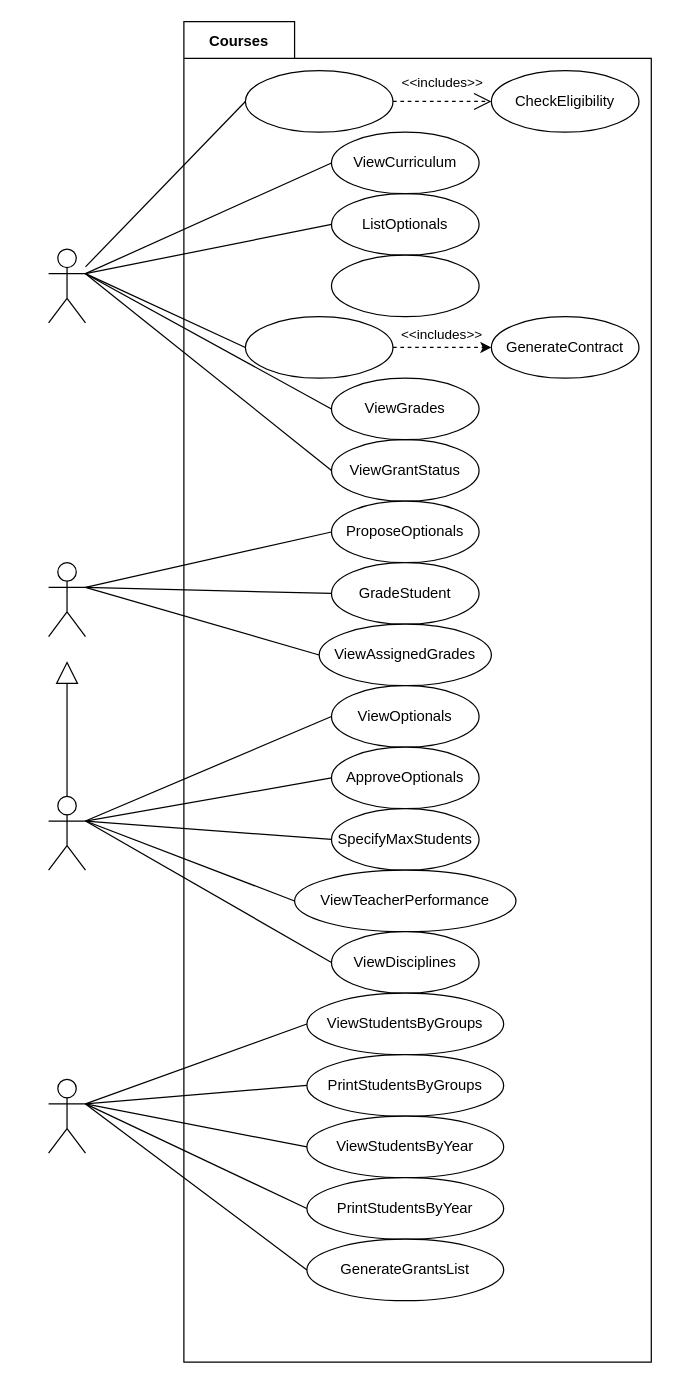
The diagram is 673 pixels wide and 1384 high, and some of its shapes have lost their labels. Here are the shapes that lost their labels. From the top down, the box of each, then its label:
(244, 69, 393, 132): EnrollYear
(47, 248, 85, 323): Student
(330, 254, 479, 317): AssignStudents
(244, 315, 393, 378): SignContract
(47, 561, 85, 637): Teacher
(47, 795, 85, 870): Chief Teacher
(47, 1078, 85, 1153): Faculty Administrative Staff
